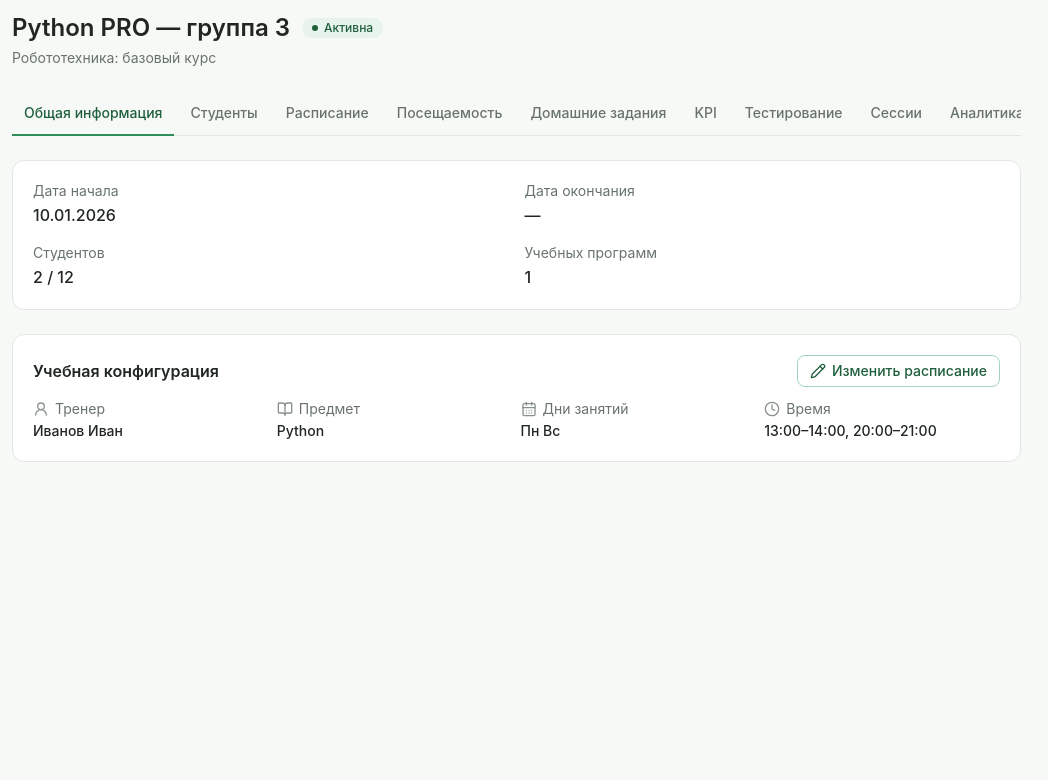
it: GroupDetailPage — Team Lead academic configuration › shows the existing per-day schedule: day, time, room, subject, trainer
Click the tab "Расписание" at (327, 114), box top-left (274, 92), bottom-right (381, 136)
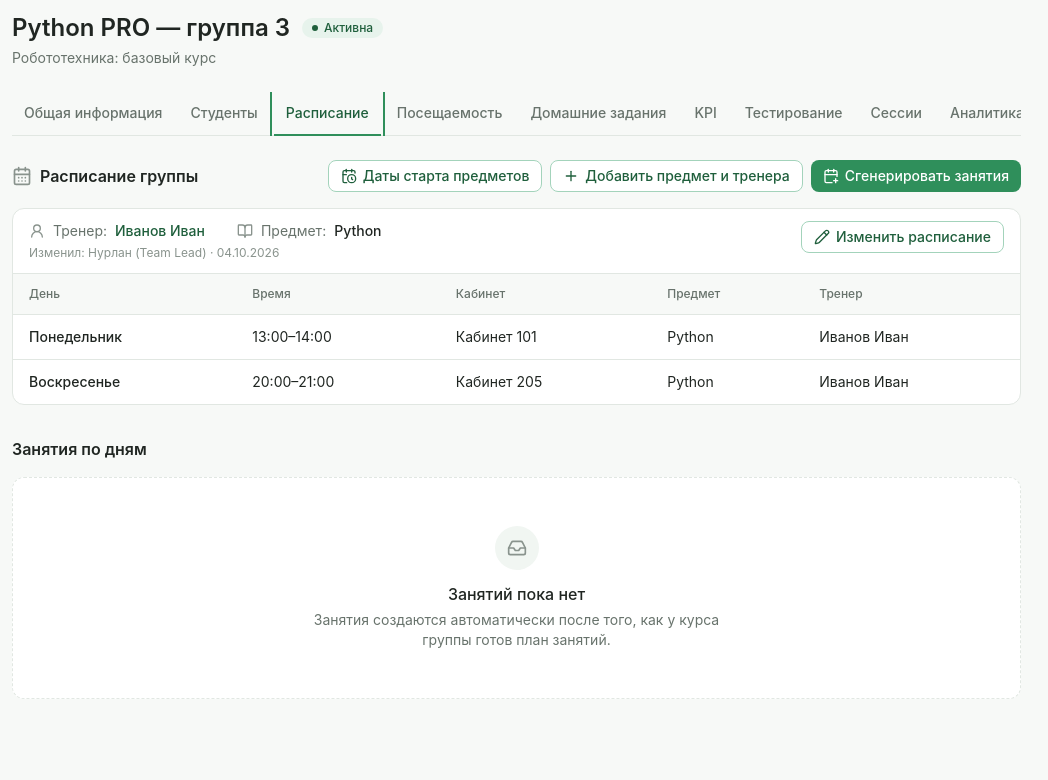
Result: the row "Понедельник 13:00–14:00 Кабинет 101 Python Иванов Иван" is shown at top-left (13, 314), bottom-right (1020, 360)
Result: the row "Воскресенье 20:00–21:00 Кабинет 205 Python Иванов Иван" is shown at top-left (13, 360), bottom-right (1020, 404)
